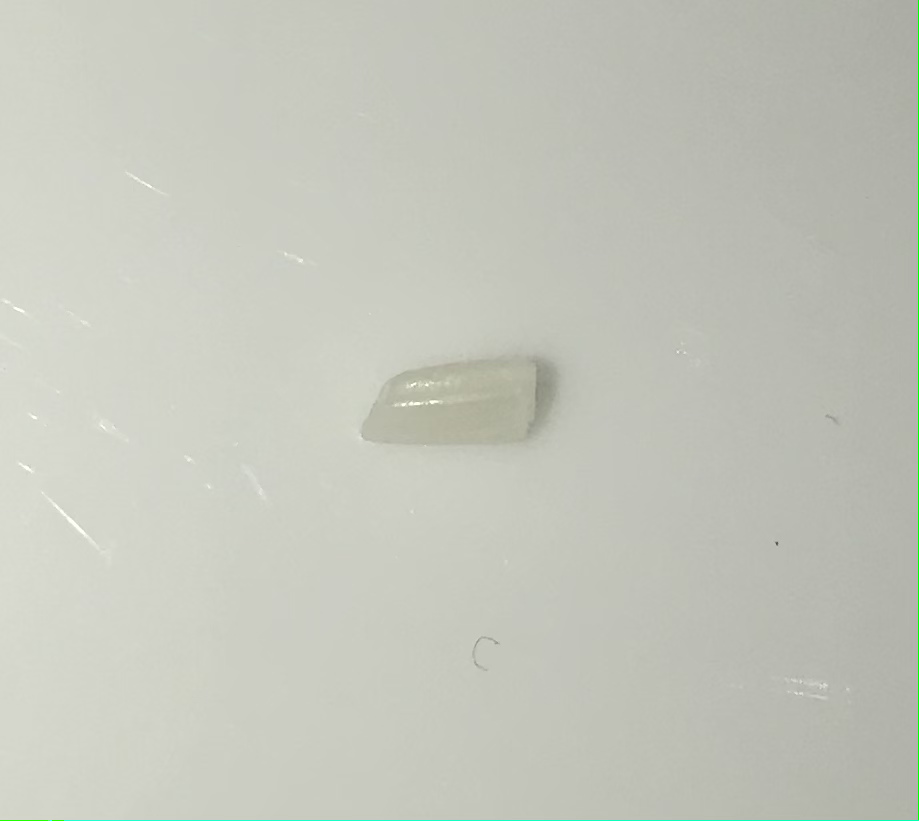Gao Tam: (355, 333, 556, 474)
